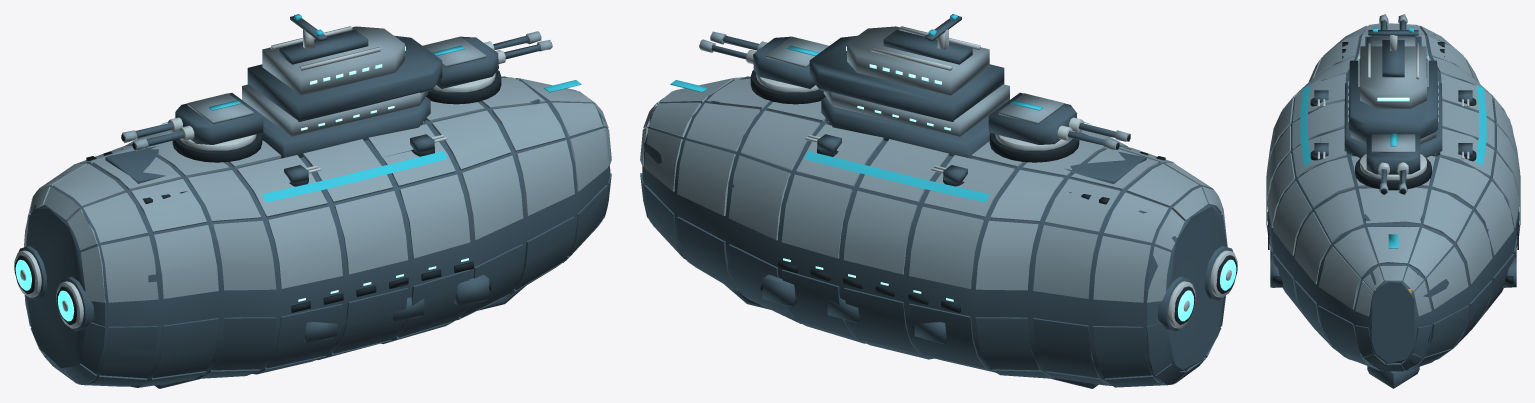
The model's file is warship.glb.
3 renders of one model, left to right at view 1: azimuth 30°, elevation 25°; view 2: azimuth 150°, elevation 25°; view 3: azimuth 270°, elevation 25°, orthographic. The views are drawn at different scales.
Parts seen in each view (by area): view 1: Battery A / muzzle sleeve.004, Battery A / barrel.004, Battery A / barbette.002, Battery A / gun cradle.004, Battery A / faction marking.002, Drive / luminous core.004; view 2: Battery A / muzzle sleeve.004, Battery A / barrel.004, Battery A / barbette.002, Battery A / gun cradle.004, Battery A / faction marking.002, Drive / luminous core.004; view 3: Battery A / muzzle sleeve.004, Battery A / barrel.004, Battery A / faction marking.002, Battery A / barbette.002, Battery A / gun cradle.004, Bridge / armored window.024.
Part boxes in pixels (x1,y1,x2,y2): Battery A / muzzle sleeve.004: (24, 26, 611, 302); Battery A / barrel.004: (18, 16, 611, 388); Battery A / barbette.002: (14, 35, 552, 324); Battery A / gun cradle.004: (14, 26, 505, 328); Battery A / faction marking.002: (161, 14, 581, 202); Drive / luminous core.004: (15, 259, 74, 321); Battery A / muzzle sleeve.004: (640, 26, 1227, 302); Battery A / barrel.004: (640, 16, 1233, 388); Battery A / barbette.002: (750, 70, 1237, 324); Battery A / gun cradle.004: (746, 26, 1237, 328); Battery A / faction marking.002: (670, 14, 1090, 202); Drive / luminous core.004: (1177, 259, 1236, 321); Battery A / muzzle sleeve.004: (1266, 14, 1520, 316); Battery A / barrel.004: (1266, 20, 1520, 388); Battery A / faction marking.002: (1300, 27, 1486, 248); Battery A / barbette.002: (1268, 42, 1518, 283); Battery A / gun cradle.004: (1317, 35, 1469, 180); Bridge / armored window.024: (1267, 54, 1519, 238).
Size of the model in its own units: 25.49 by 13.93 by 11.85.
